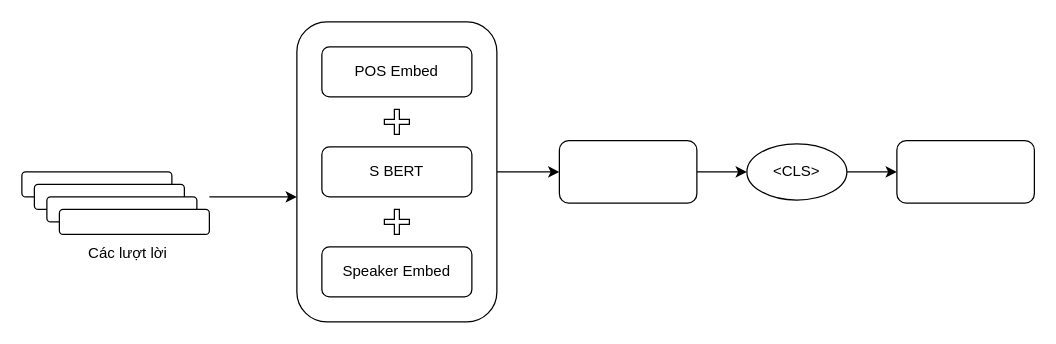
Image size: 1056x344. Some labels were removed from this diagram. Each missing label, with the centre of its shape:
Classifier (MLP): point 965,171
Encoder layer X2: point 627,171
